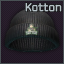Kotton beanie: (0, 0, 64, 64)
